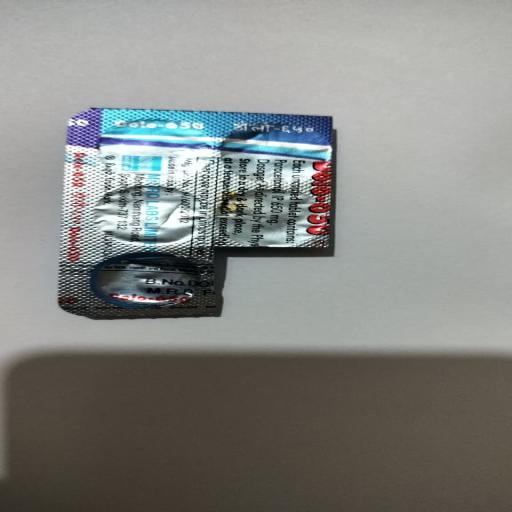dolo-650: (70, 98, 390, 444)
